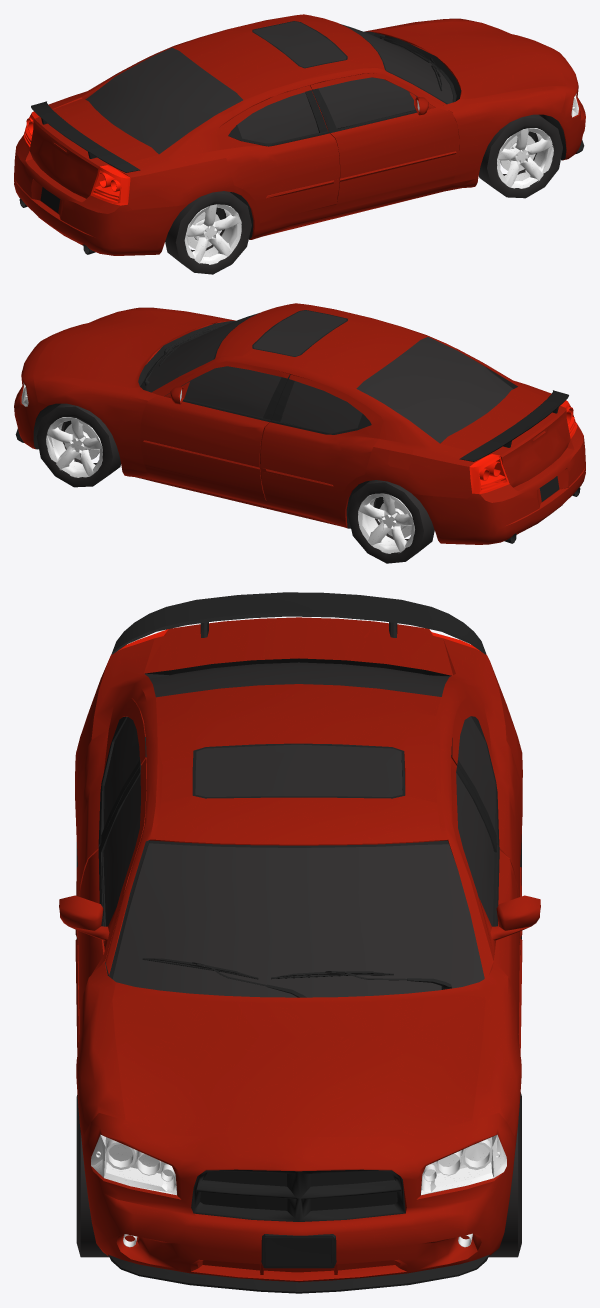
File: sm_dodge_charger_lod_2.fbx
The picture shows the model from 3 angles, top to bottom: view 1: azimuth 30°, elevation 25°; view 2: azimuth 150°, elevation 25°; view 3: azimuth 270°, elevation 25°; orthographic projection. The views are drawn at different scales.
Visible parts, largest first — view 1: lod_2; view 2: lod_2; view 3: lod_2.
Part boxes in pixels (x1=…): lod_2: x1=14, y1=14, x2=585, y2=274; lod_2: x1=14, y1=303, x2=585, y2=563; lod_2: x1=59, y1=592, x2=540, y2=1293.
Size of the model in its own units: 5.09 by 1.48 by 2.04.
6 materials, 6 textured.
